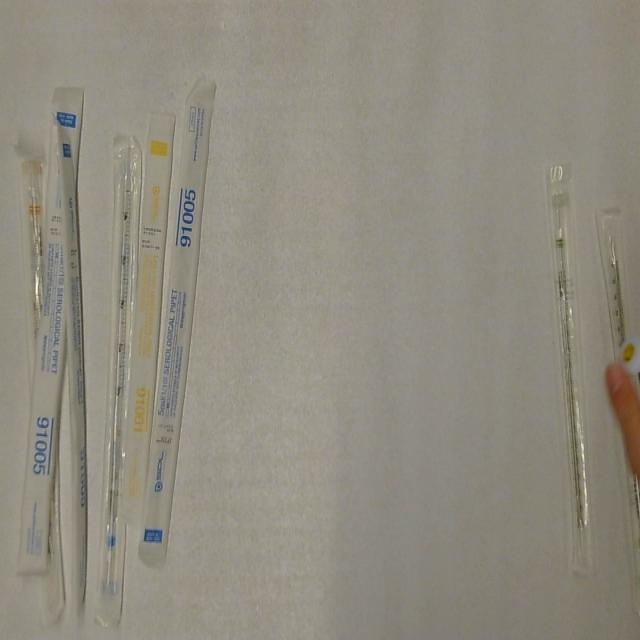Serelogical Pipet 1 mL: (116, 111, 178, 526)
Serelogical Pipet 10 mL: (22, 148, 56, 382)
Serelogical Pipet 2 mL: (539, 159, 599, 580)
Serelogical Pipet 5 mL: (140, 78, 222, 563), (17, 82, 87, 578), (94, 132, 146, 630), (54, 118, 92, 616)
